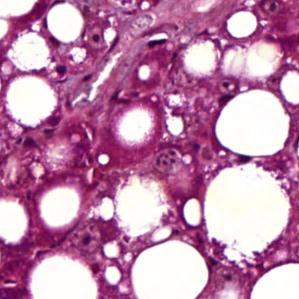steatosis: (215, 83, 289, 164), (42, 6, 91, 52)
